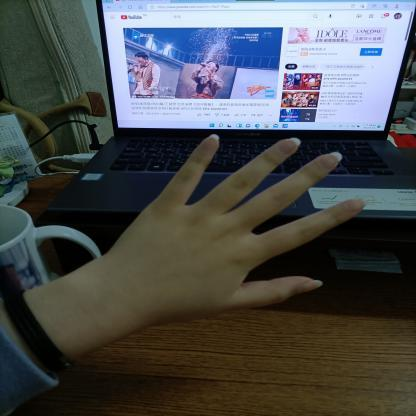bare_hand: (100, 130, 378, 340)
